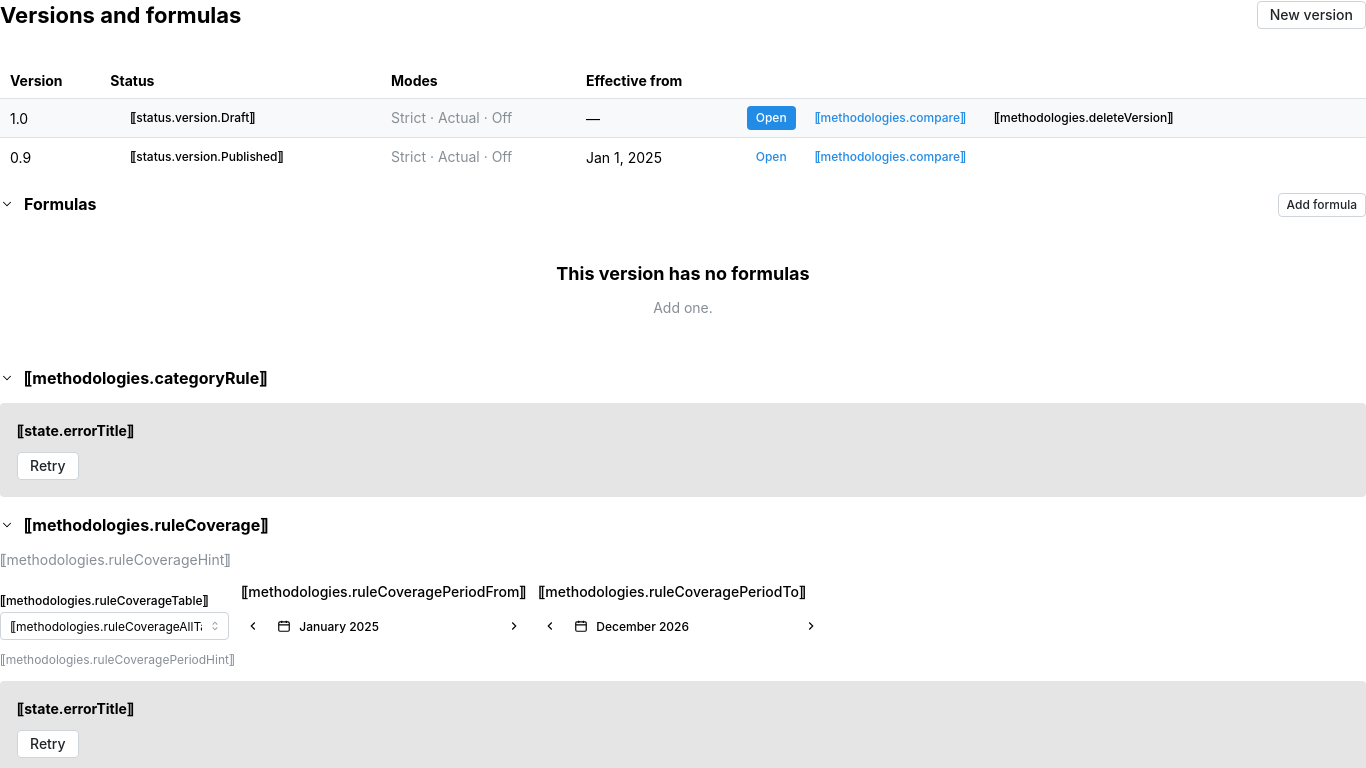
MethodologyVersionsPage: відмова читання не виглядає як «нічого не заведено» › одиниці ще в дорозі — перелік НЕДОСТУПНИЙ, а не порожній
The image size is (1366, 768).
Expected: the text "1.0" is shown, top-left (0, 99), bottom-right (100, 138)
What coordinates should you click on to do the following:
click the button "Add formula"
I would click on:
 (1322, 205)
Its box is top-left (1278, 193), bottom-right (1365, 217).
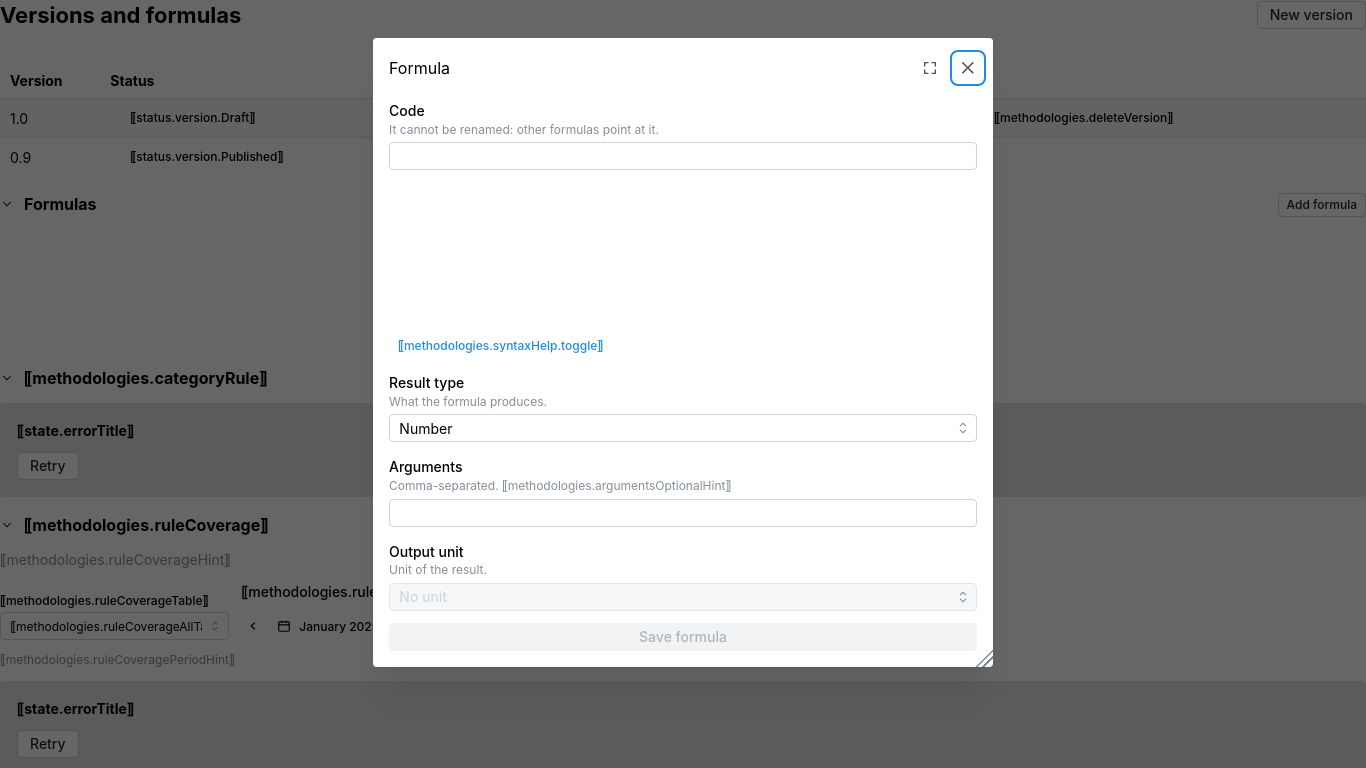
Now the field labelled "Output unit" is disabled, box top-left (389, 583), bottom-right (977, 611)
